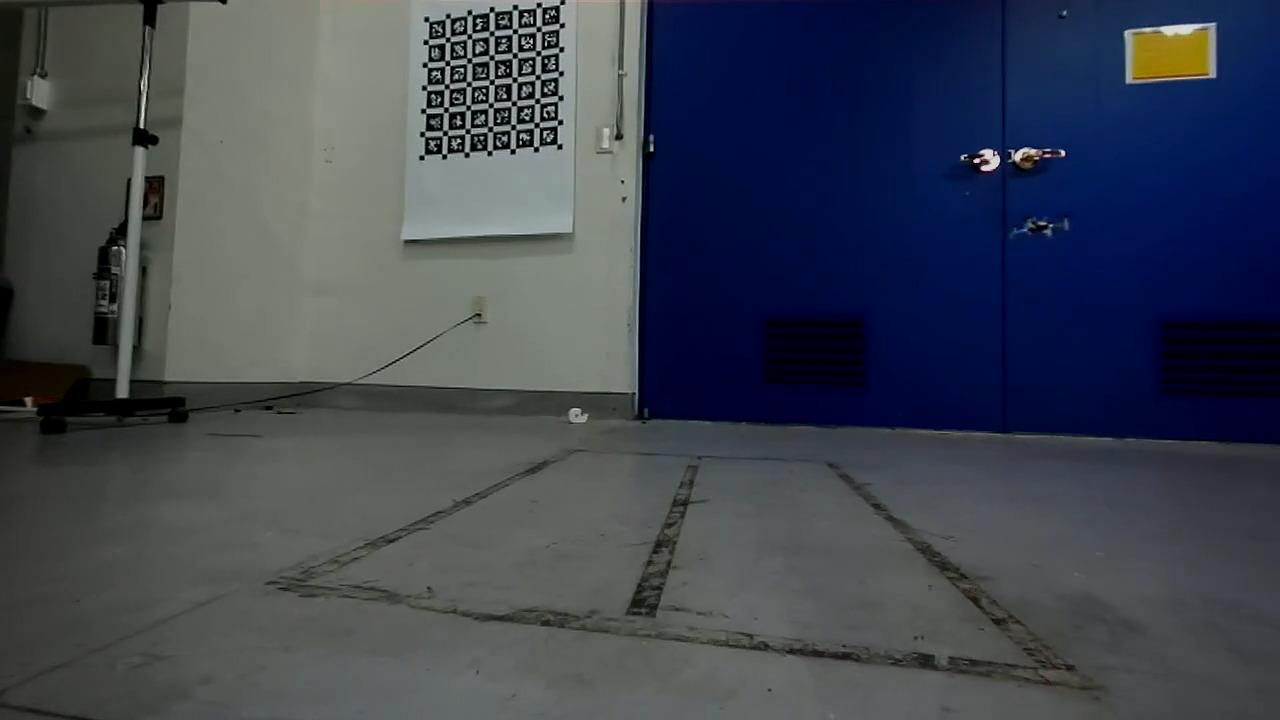crazyflie: (998, 208, 1081, 245)
